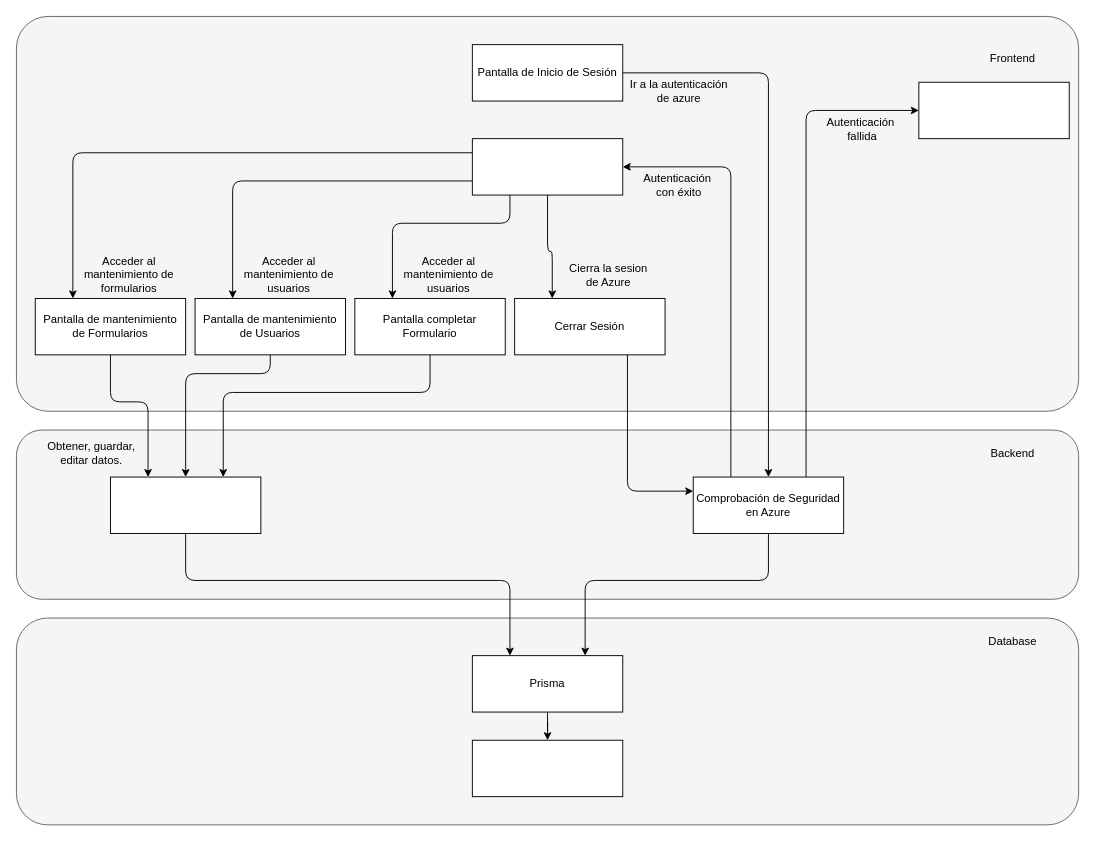
The diagram is 1095 pixels wide and 841 high, and some of its shapes have lost their labels. The shapes that lost their labels are listed below. From the top down, each one's box as (x1, y1, x2, y2) in pixels, then its label:
(918, 81, 1069, 139): Pantalla de Errores
(471, 138, 623, 195): Pantalla Principal (Main Menu)
(110, 476, 261, 533): Crud componente
(471, 739, 623, 797): DB Azure
